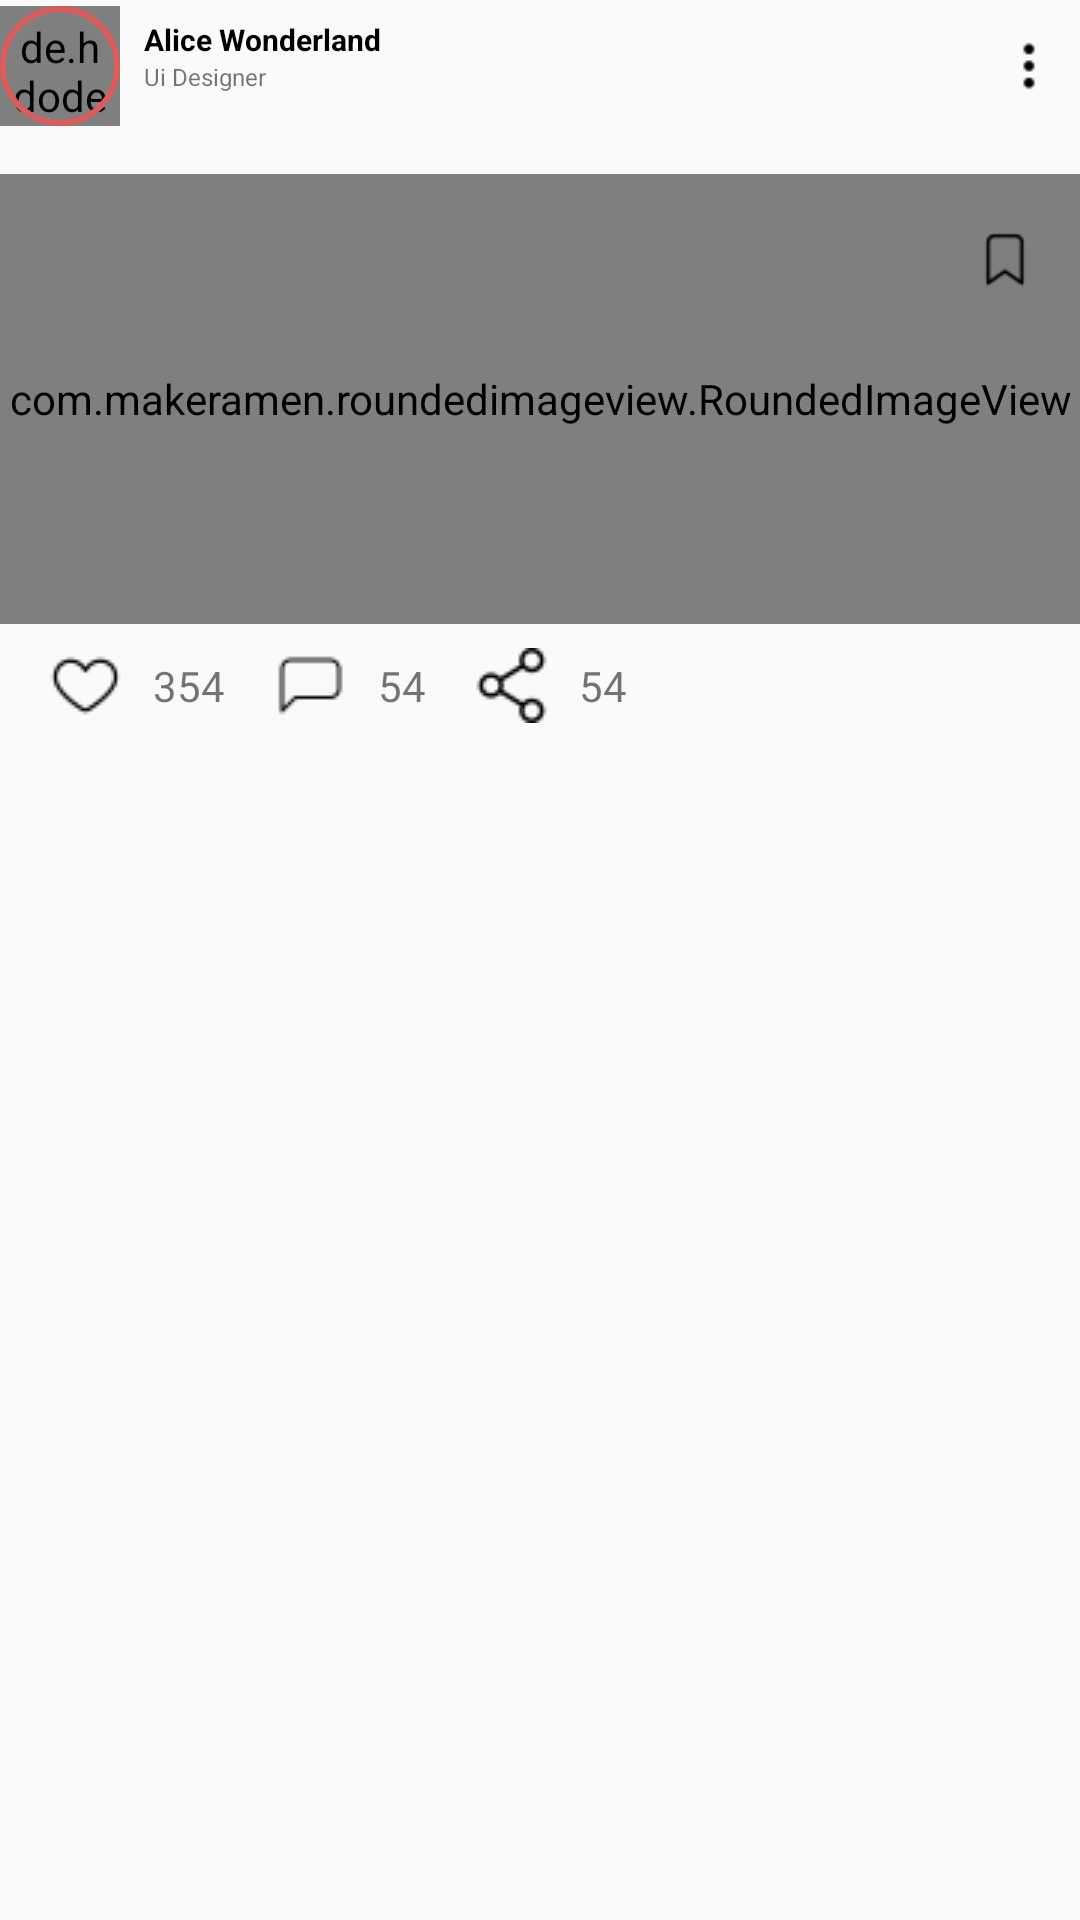

Point at icon controls on the screen. Image size 1080 × 1920, points as point (x, y).
bookmark: point (1005, 259)
more: point (1029, 66)
